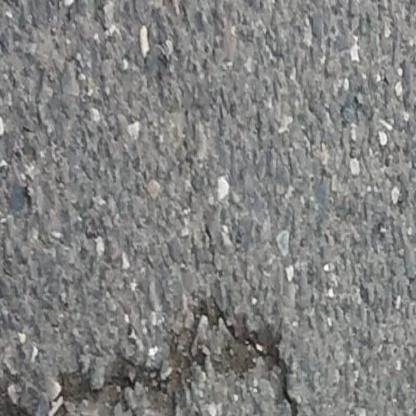Cracks: (0, 286, 320, 416)
